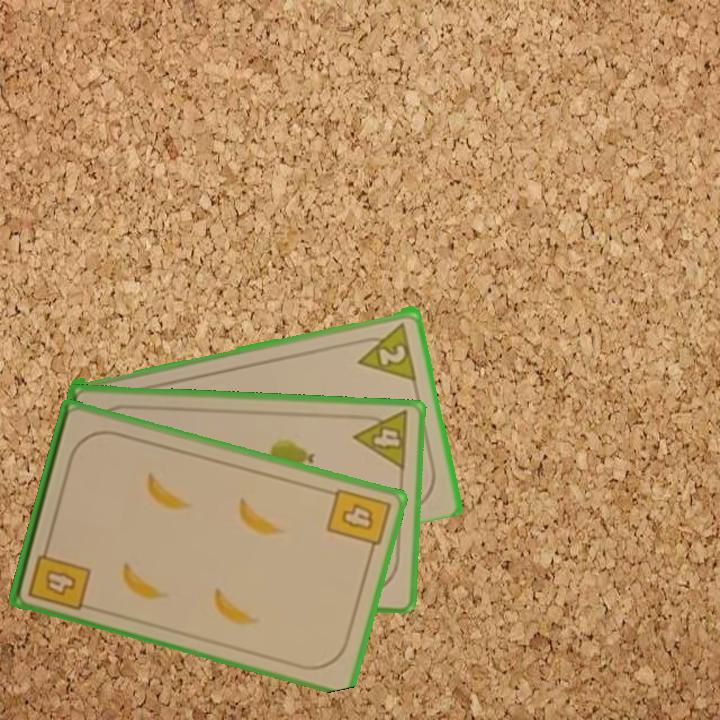2p: (352, 317, 419, 382)
4b: (24, 538, 93, 614), (323, 484, 393, 558)
4p: (351, 407, 412, 473)
